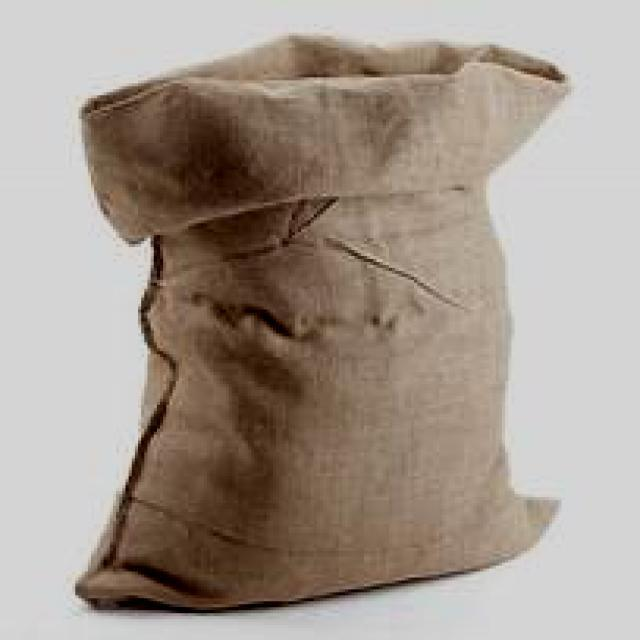gunny_bag: (65, 30, 577, 614)
